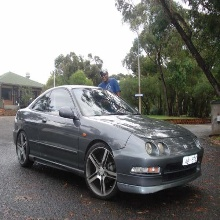no damage: (12, 82, 204, 198)
